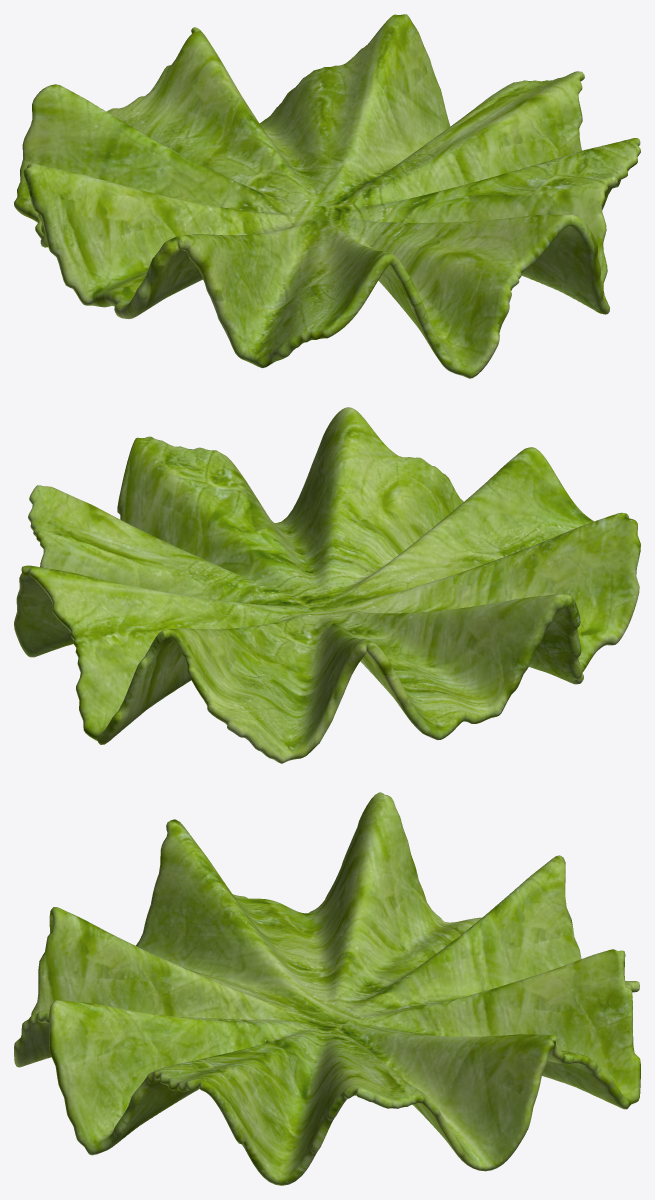
The model's file is lettuce.glb.
3 views of the same model, one above another, from view 1: azimuth 30°, elevation 25°; view 2: azimuth 150°, elevation 25°; view 3: azimuth 270°, elevation 25° (orthographic).
Visible parts, largest first — view 1: Grid; view 2: Grid; view 3: Grid.
Part boxes in pixels (x1=…): Grid: x1=14, y1=14, x2=640, y2=378; Grid: x1=14, y1=407, x2=640, y2=763; Grid: x1=14, y1=792, x2=640, y2=1185.
Size of the model in its own units: 2.44 by 0.6281 by 2.39.
Materials: 1 (1 with a texture image).
